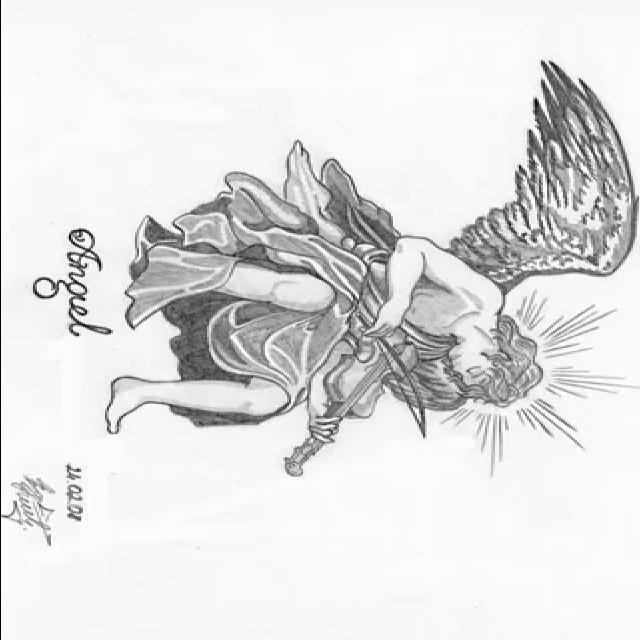angel: (86, 60, 640, 488)
